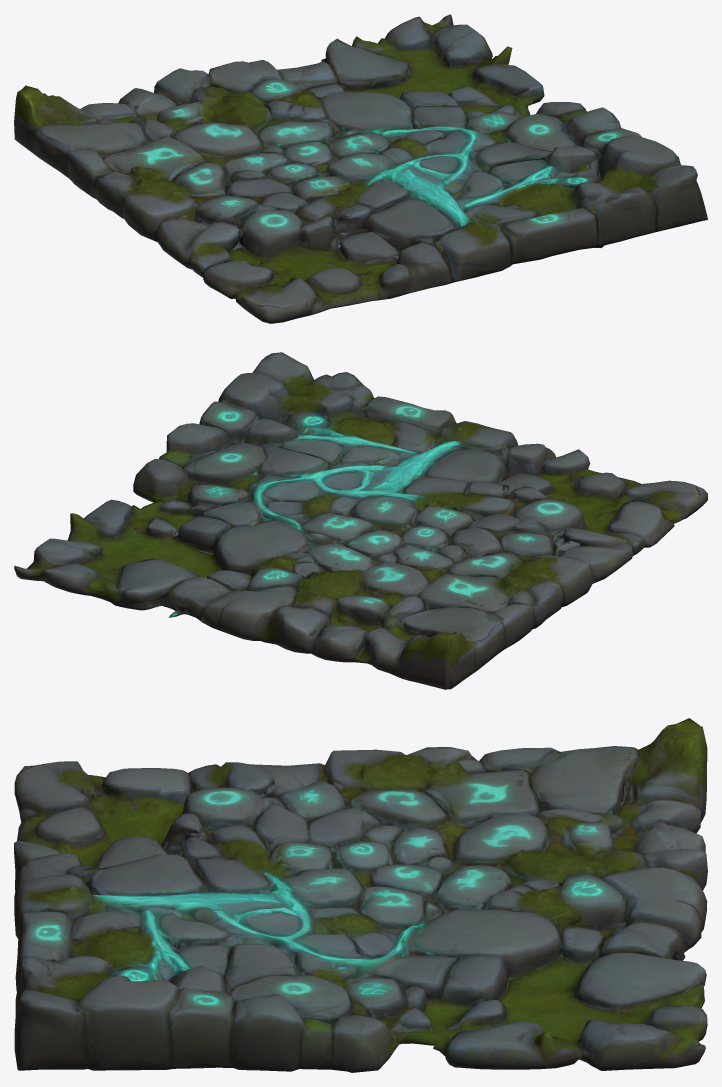
Rendered from path_mobile.glb.
The picture shows the model from 3 angles, top to bottom: view 1: azimuth 30°, elevation 25°; view 2: azimuth 150°, elevation 25°; view 3: azimuth 270°, elevation 25°; orthographic projection. The views are drawn at different scales.
Parts seen in each view (by area): view 1: Mesh1.0; view 2: Mesh1.0; view 3: Mesh1.0.
Part boxes in pixels (<box>): Mesh1.0: <box>14,14,707,323</box>; Mesh1.0: <box>14,352,707,689</box>; Mesh1.0: <box>14,718,707,1072</box>.
Size of the model in its own units: 2 by 0.2317 by 2.01.
Materials: 1 (1 with a texture image).
